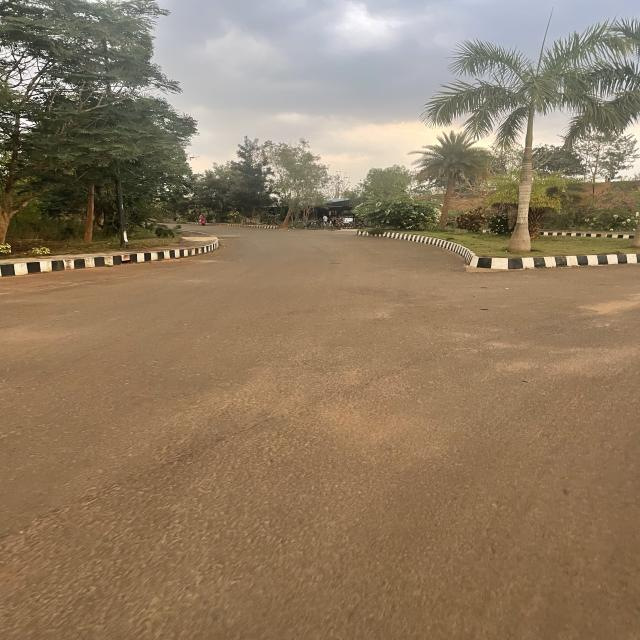D40: (452, 260, 512, 286)
D43: (6, 254, 216, 289)
